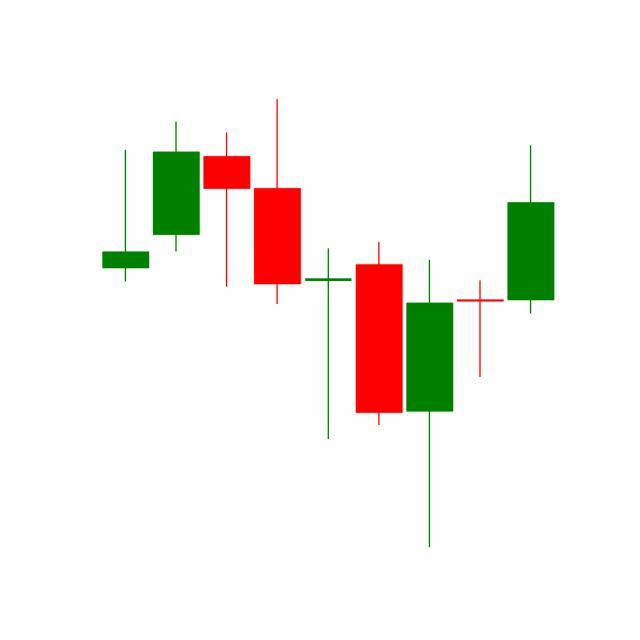Hikkake Pattern: (302, 141, 555, 548)
